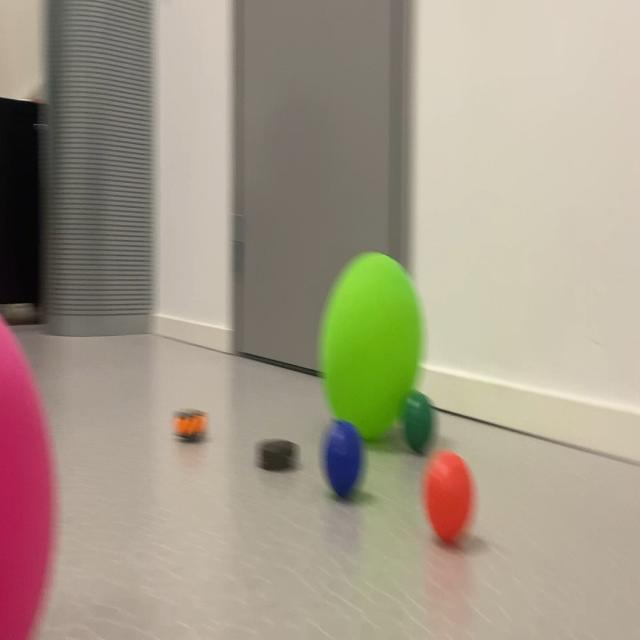7: (402, 442, 506, 564)
green ball: (312, 388, 367, 532)
red ball: (390, 370, 457, 478)
